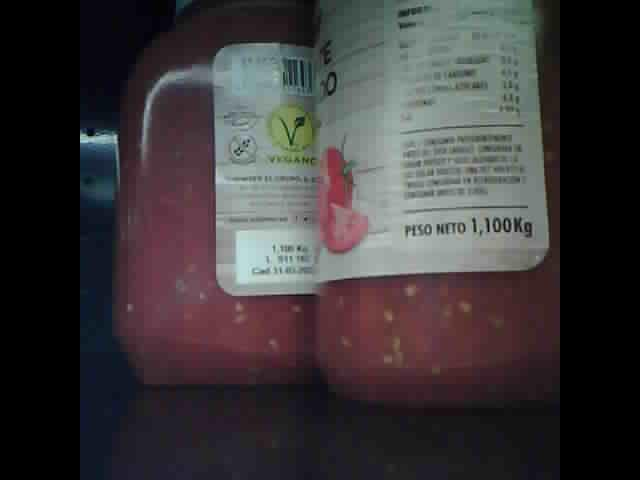tomate: (313, 1, 558, 401), (114, 4, 313, 391)
